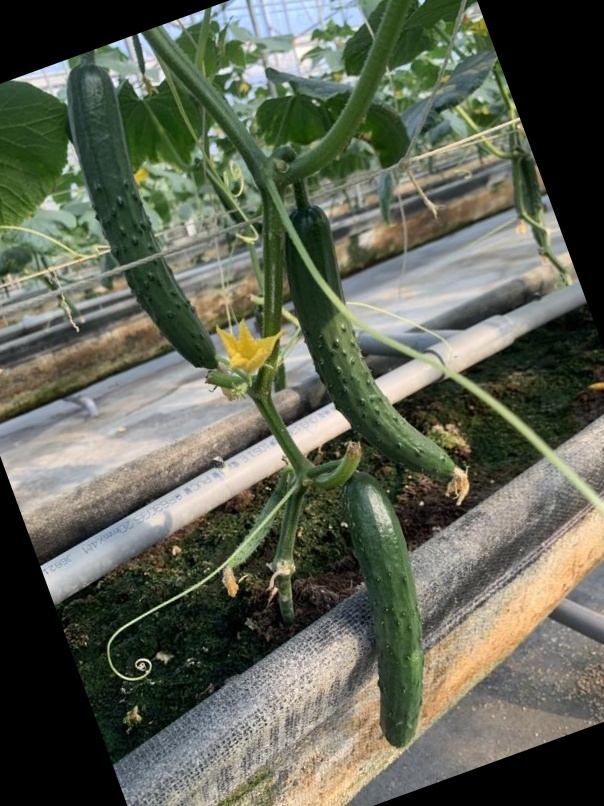mature: (61, 64, 223, 381), (282, 205, 466, 479), (345, 472, 427, 750)
